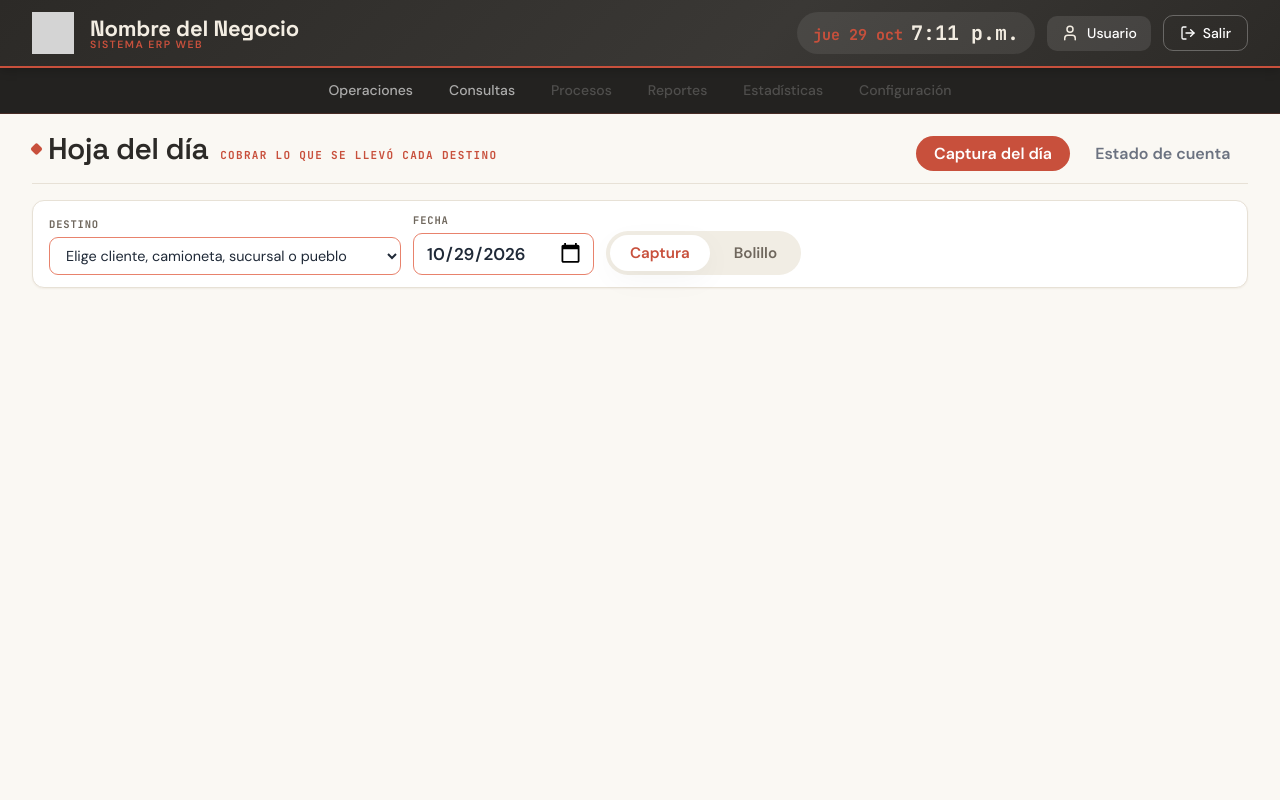
Test: HojaDelDia — cableado › 🔴 un destino cobrado es solo lectura y enseña el folio
This screenshot has width=1280, height=800.
Select "DELI · Sin capturar · $0.00" in the dropdown labelled "Destino" at (225, 256), box [49,237,401,275]
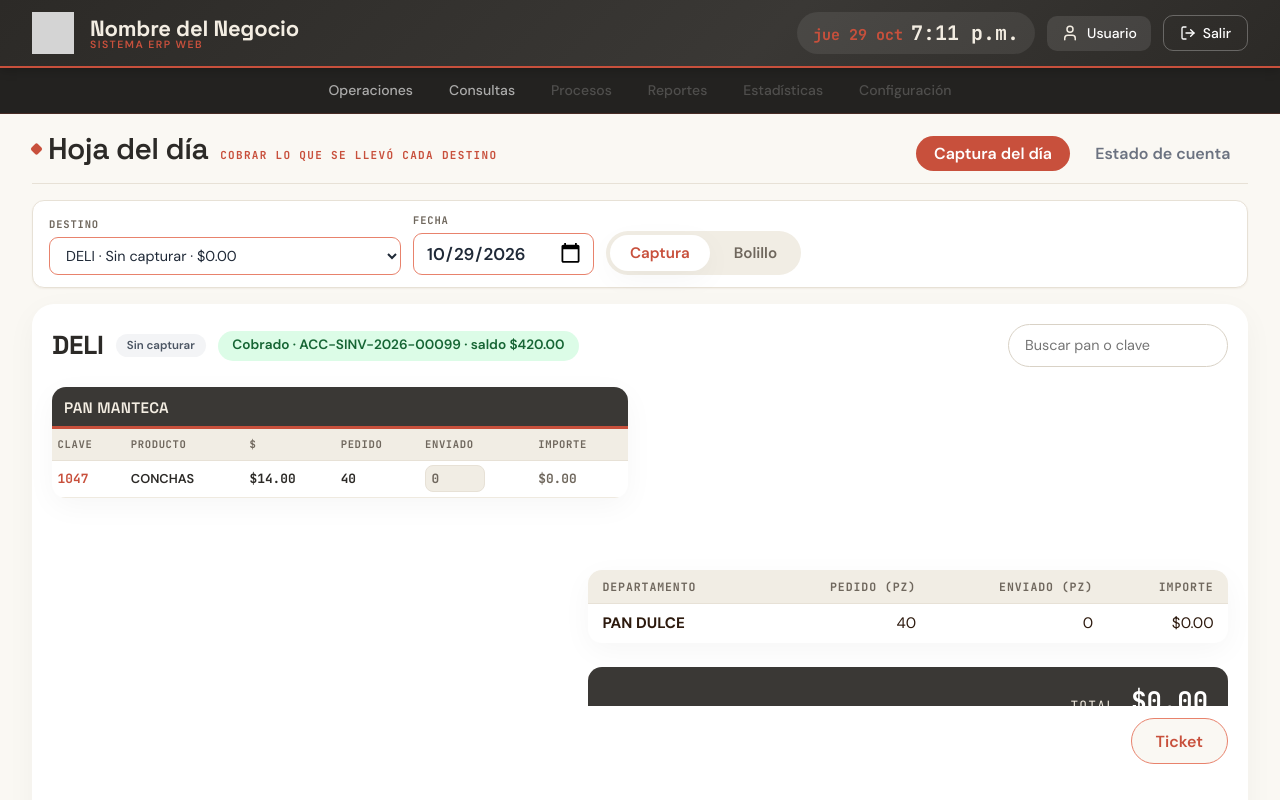
Now the text "Cobrado · ACC-SINV-2026-00099 · saldo $420.00" is shown, box [218,330,579,360]
Now the number field named "Enviado CONCHAS" is disabled, box [425,465,485,492]
